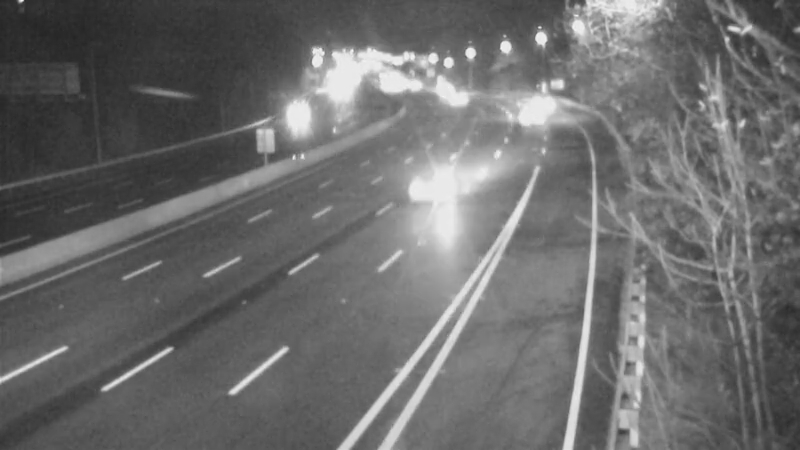vehicle: (388, 152, 468, 232), (431, 74, 481, 124), (515, 77, 565, 127), (503, 95, 553, 145), (267, 94, 317, 144)
